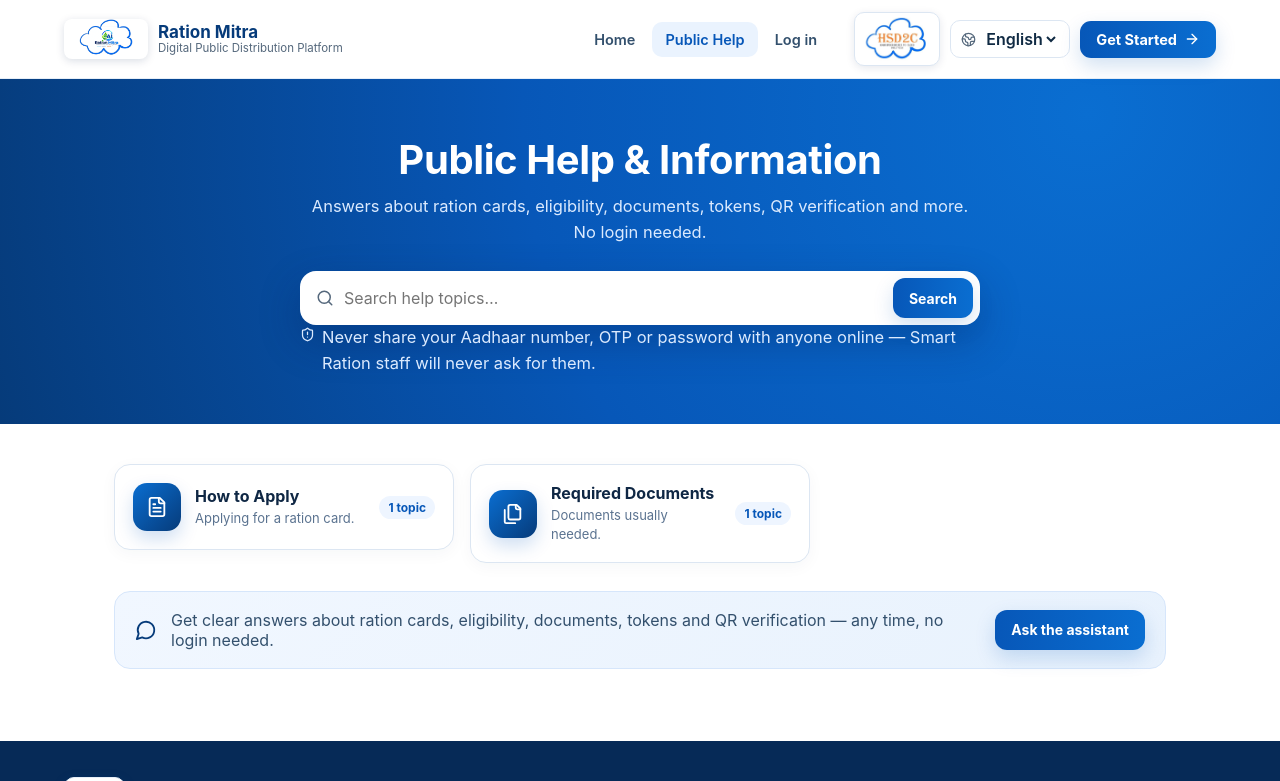
Test case: Public Help page › lists help categories and opens an article
The width and height of the screenshot is (1280, 781).
Click the button "Required Documents Documents usually needed. 1 topic".
click(640, 514)  # box [471,465,809,562]
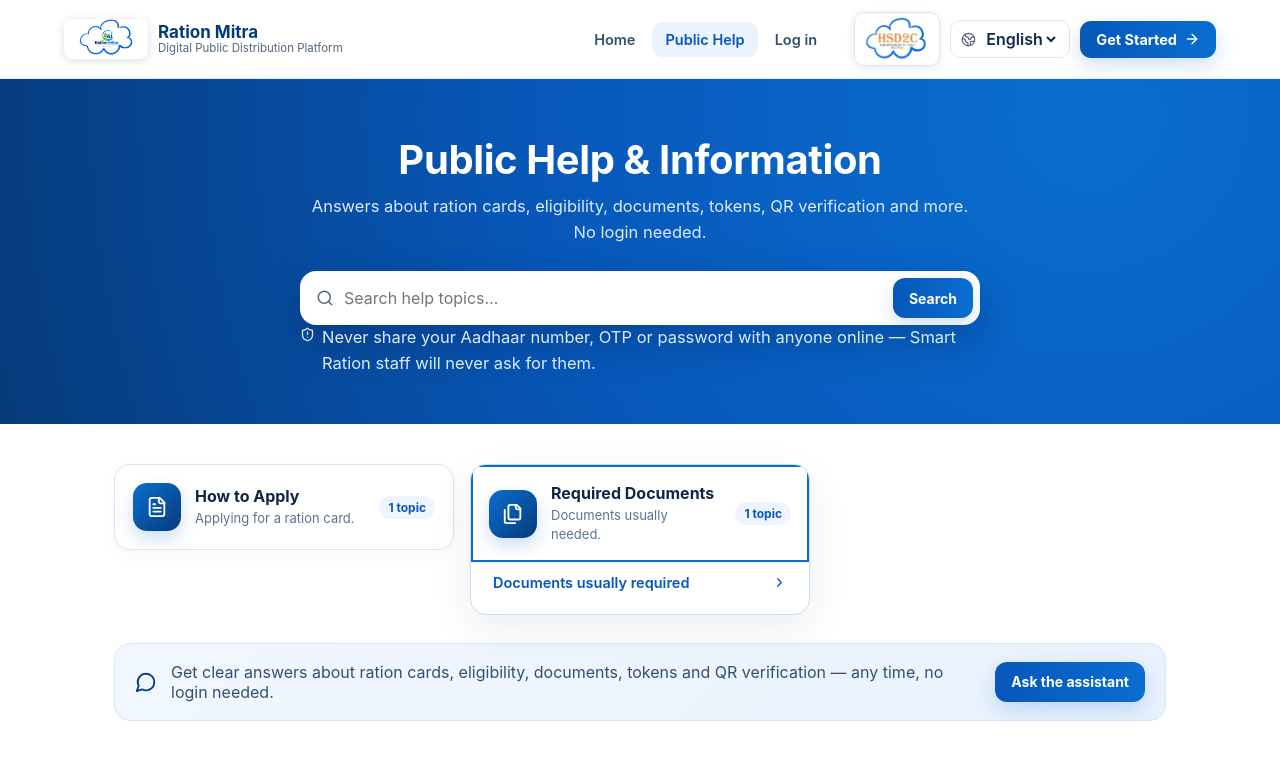
Click the button "Documents usually required".
click(640, 582)  # box [483,563,797,602]
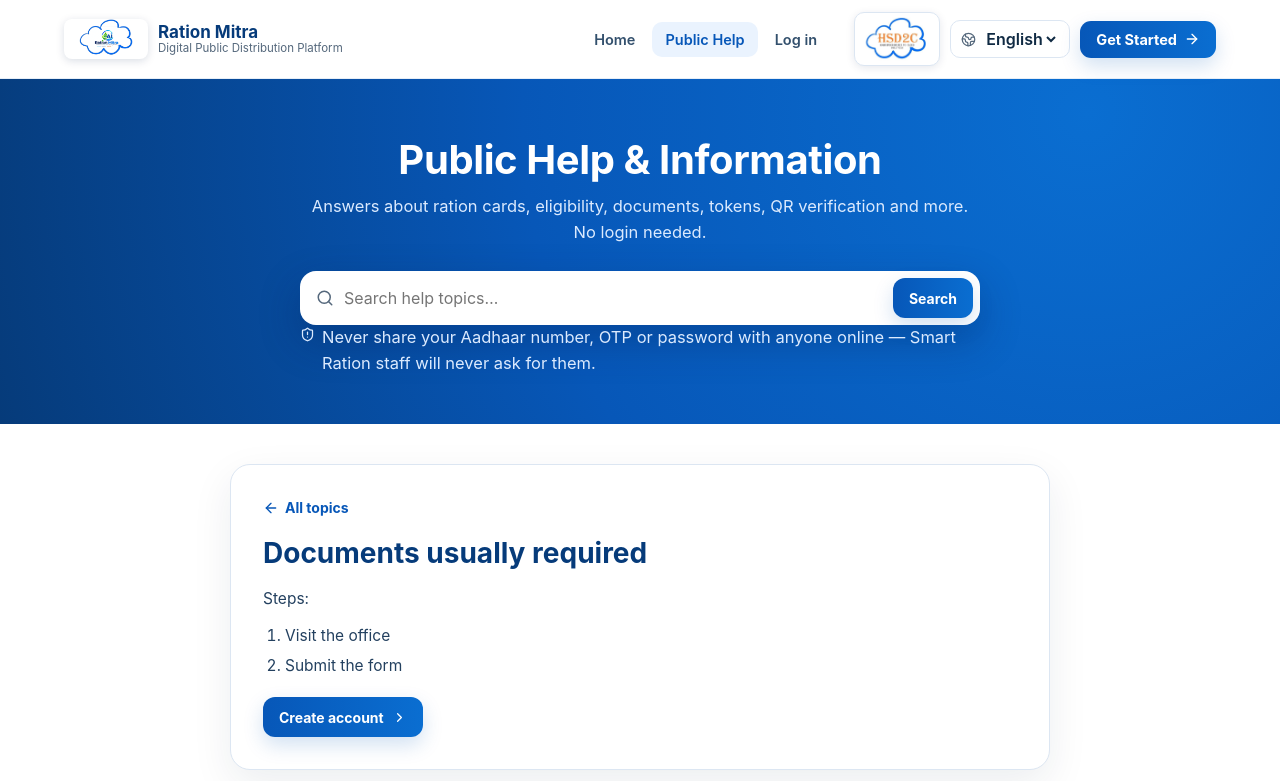
Result: the heading "Documents usually required" is shown at [263,536,647,570]
Click the button "All topics".
click(306, 508)  # box [255,493,357,522]
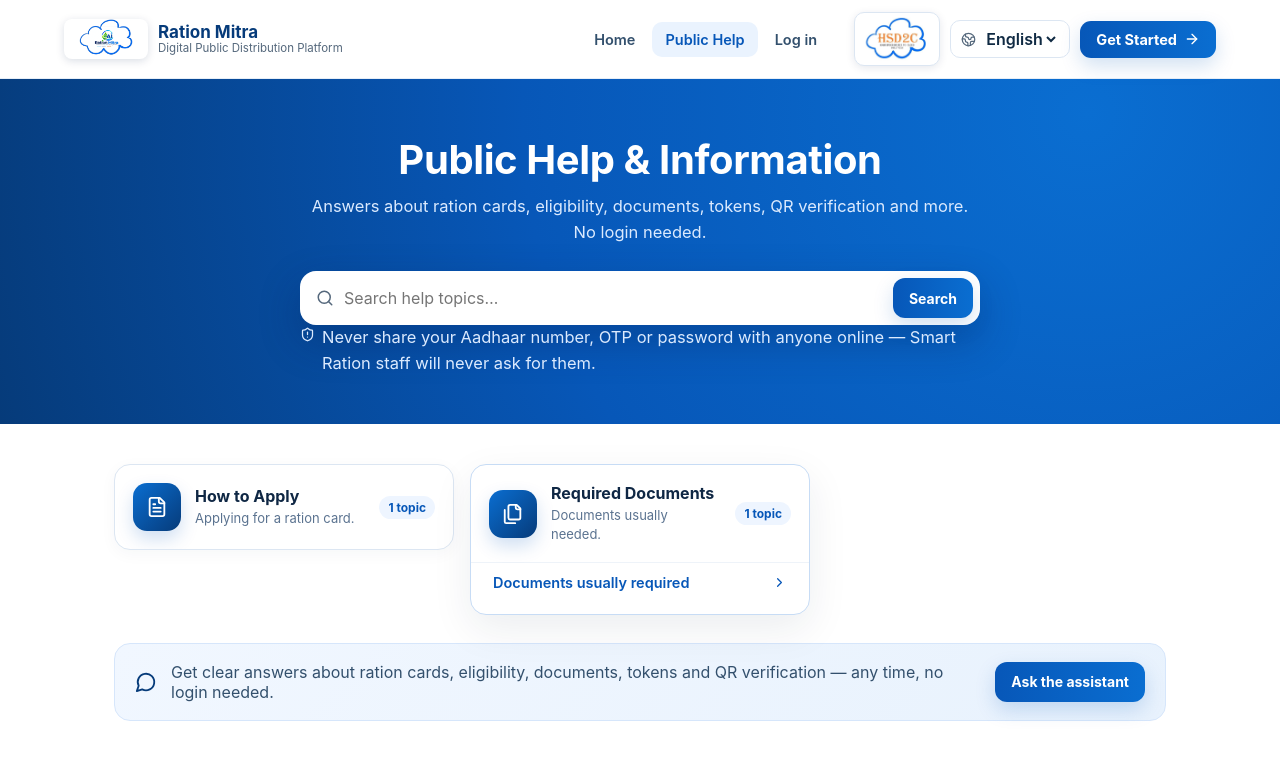
Result: the button "How to Apply Applying for a ration card. 1 topic" is shown at [115,465,453,549]
